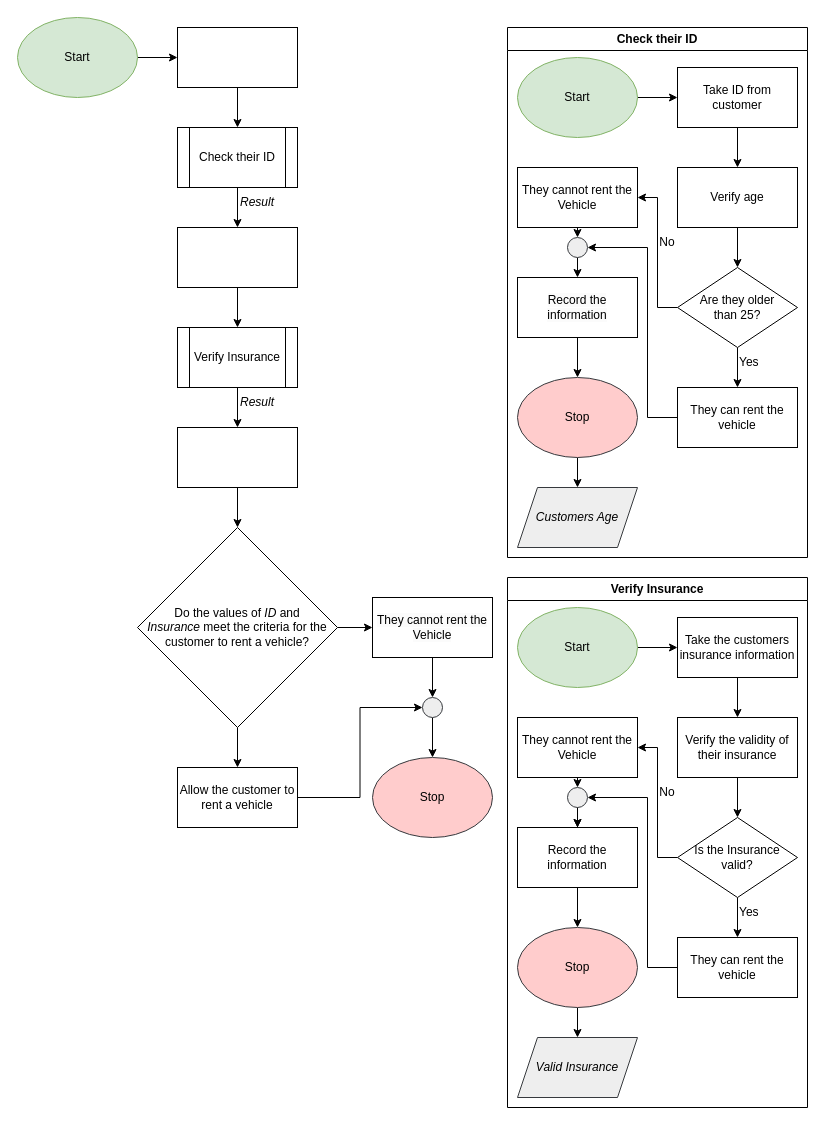
Image size: 825x1125. Some labels were removed from this diagram. Here are the shapes that lost their labels. From the top down, the centre of each, then its label:
At pixel 237 57: "Customer want to rent vehicle".
At pixel 237 257: "Set ID to Result".
At pixel 237 457: "Set Insurance to Result".
